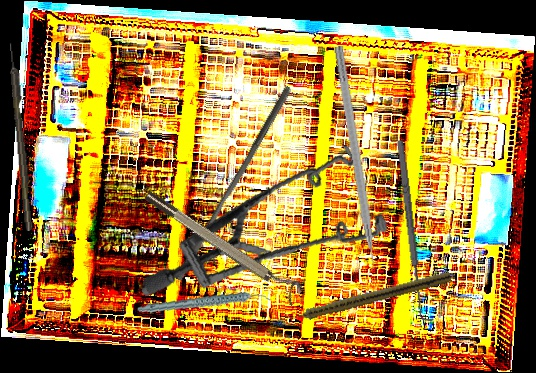Chopper: (320, 45, 381, 282)
Fixation Ring: (142, 181, 306, 307)
Handpiece: (284, 268, 452, 326), (136, 279, 272, 329)
Hook Surgical: (393, 137, 435, 325), (7, 41, 34, 232)
Pusher: (173, 81, 293, 285)
Speculum: (141, 116, 399, 332)
